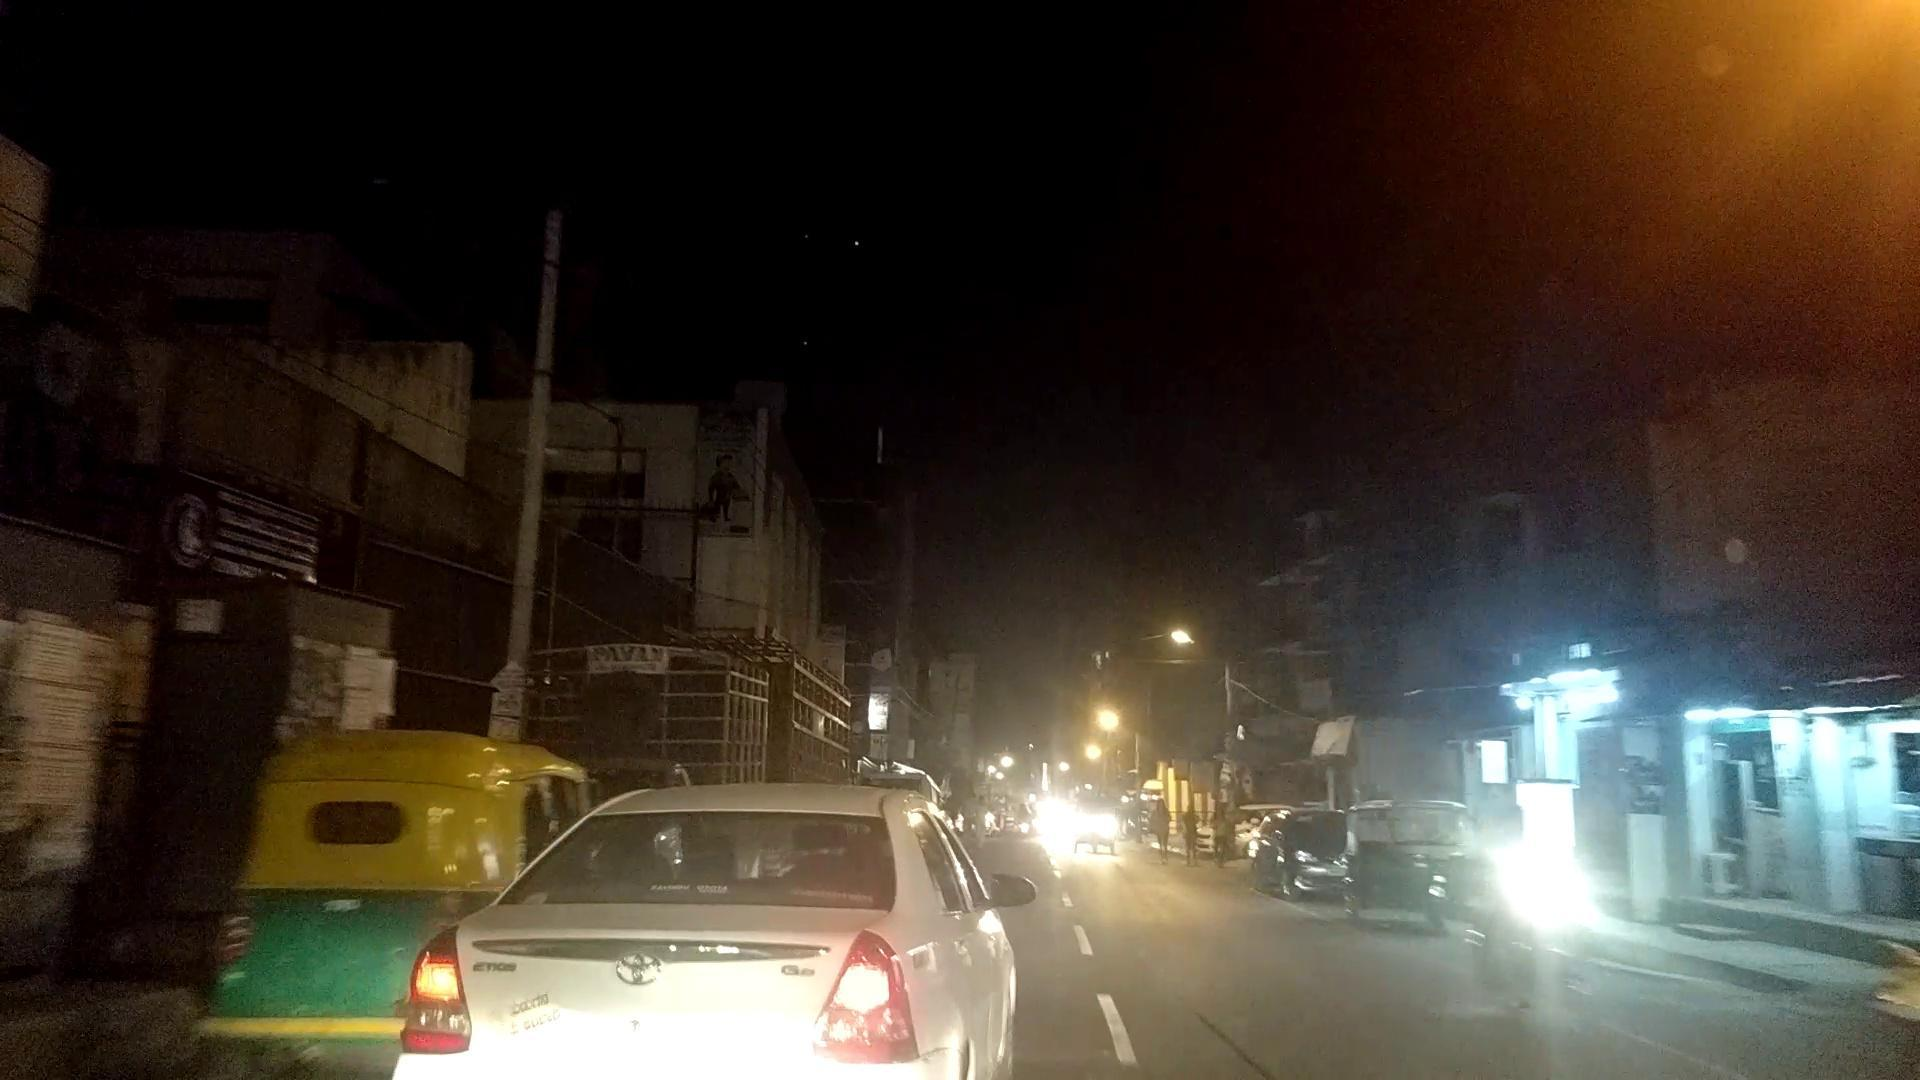on: (1440, 0, 1920, 396)
